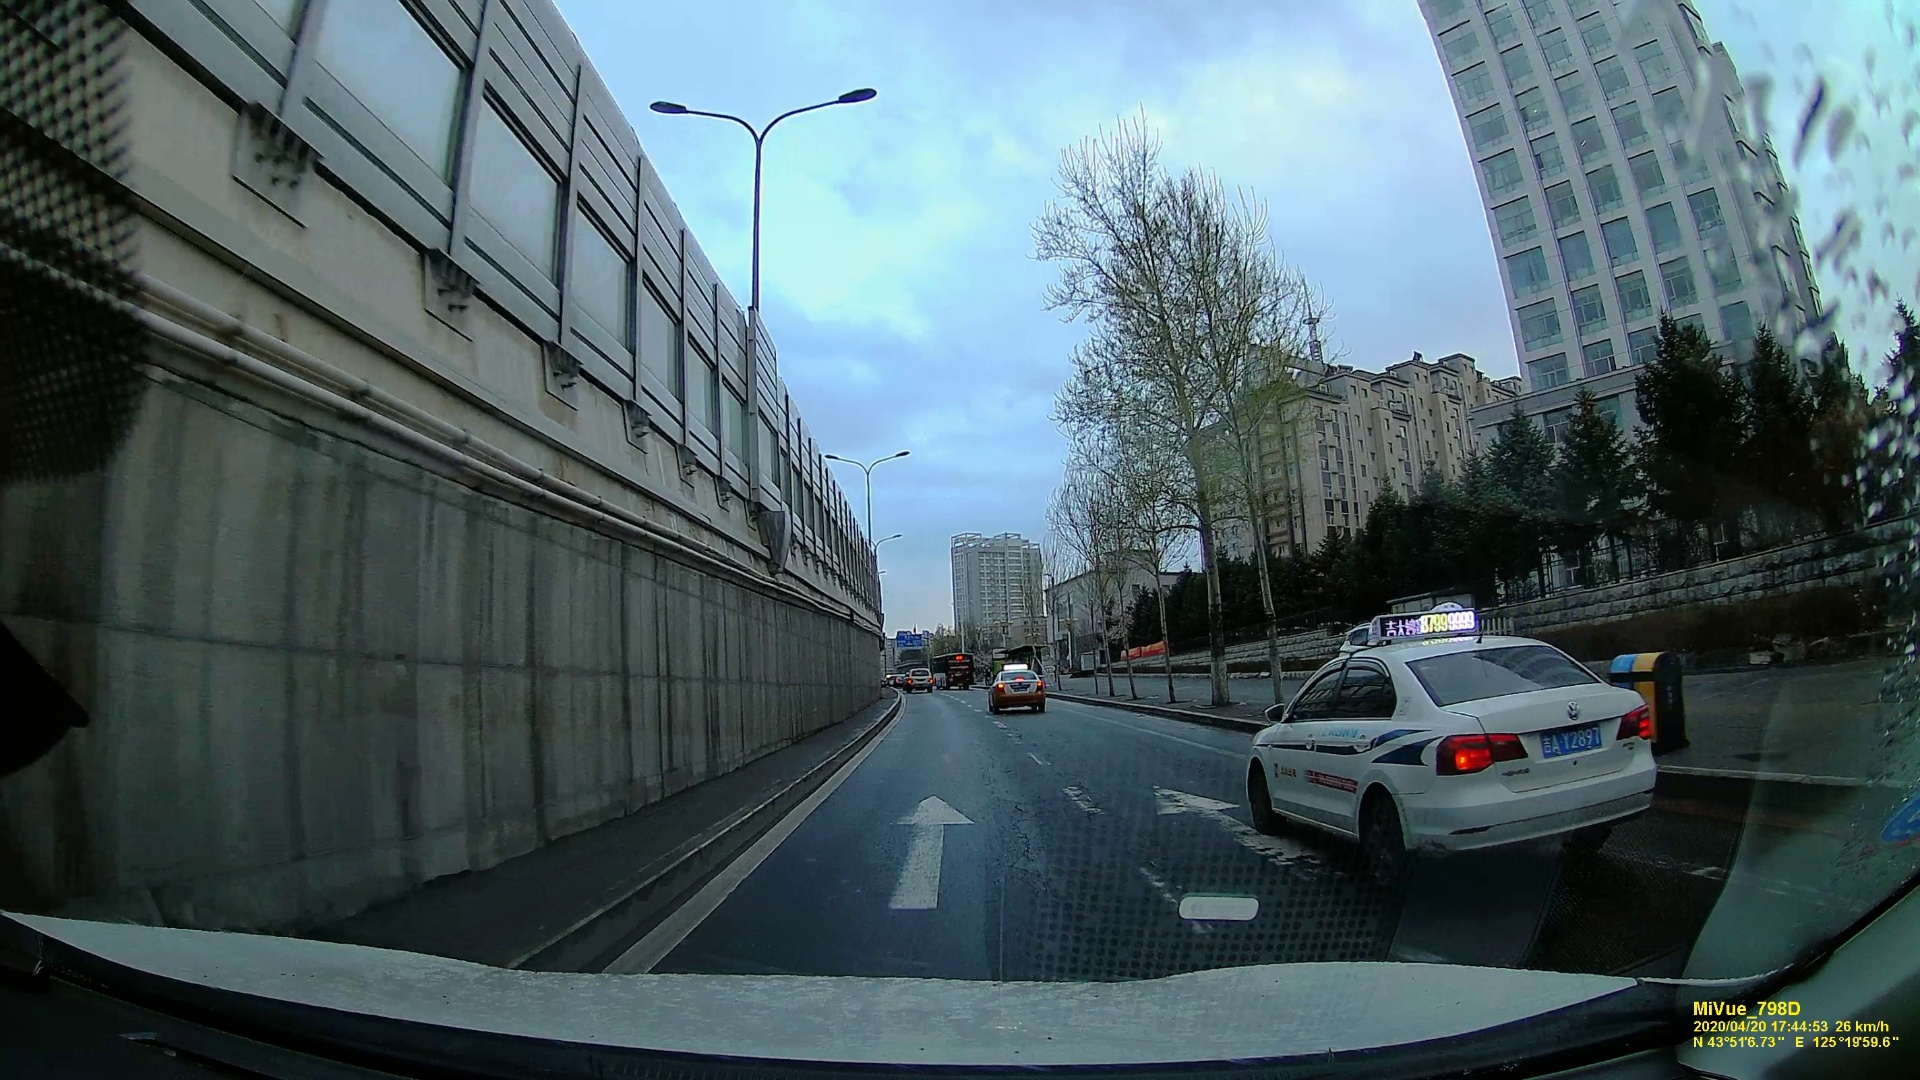bus: (932, 654, 975, 691)
traffic_sign: (897, 630, 922, 647)
vehicle: (1244, 622, 1659, 881), (989, 669, 1044, 713), (906, 669, 934, 694)
